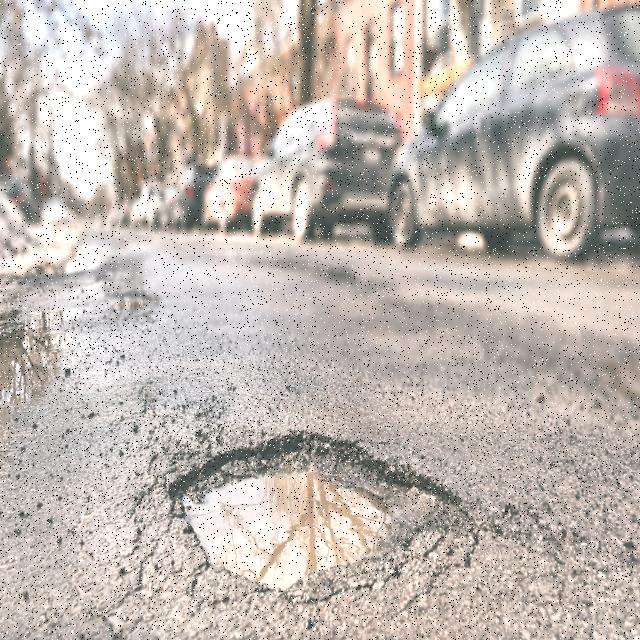pothole: (168, 431, 454, 607)
